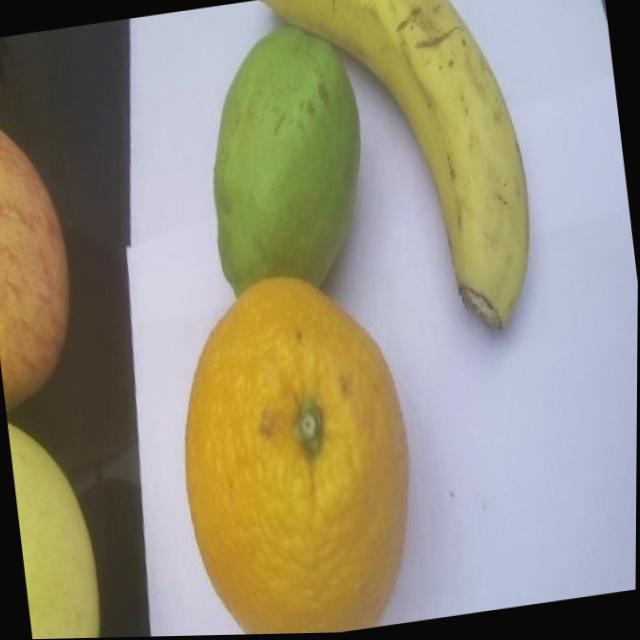Apple: (0, 91, 83, 412)
Banana: (252, 0, 549, 370)
Orange: (154, 255, 435, 637)
